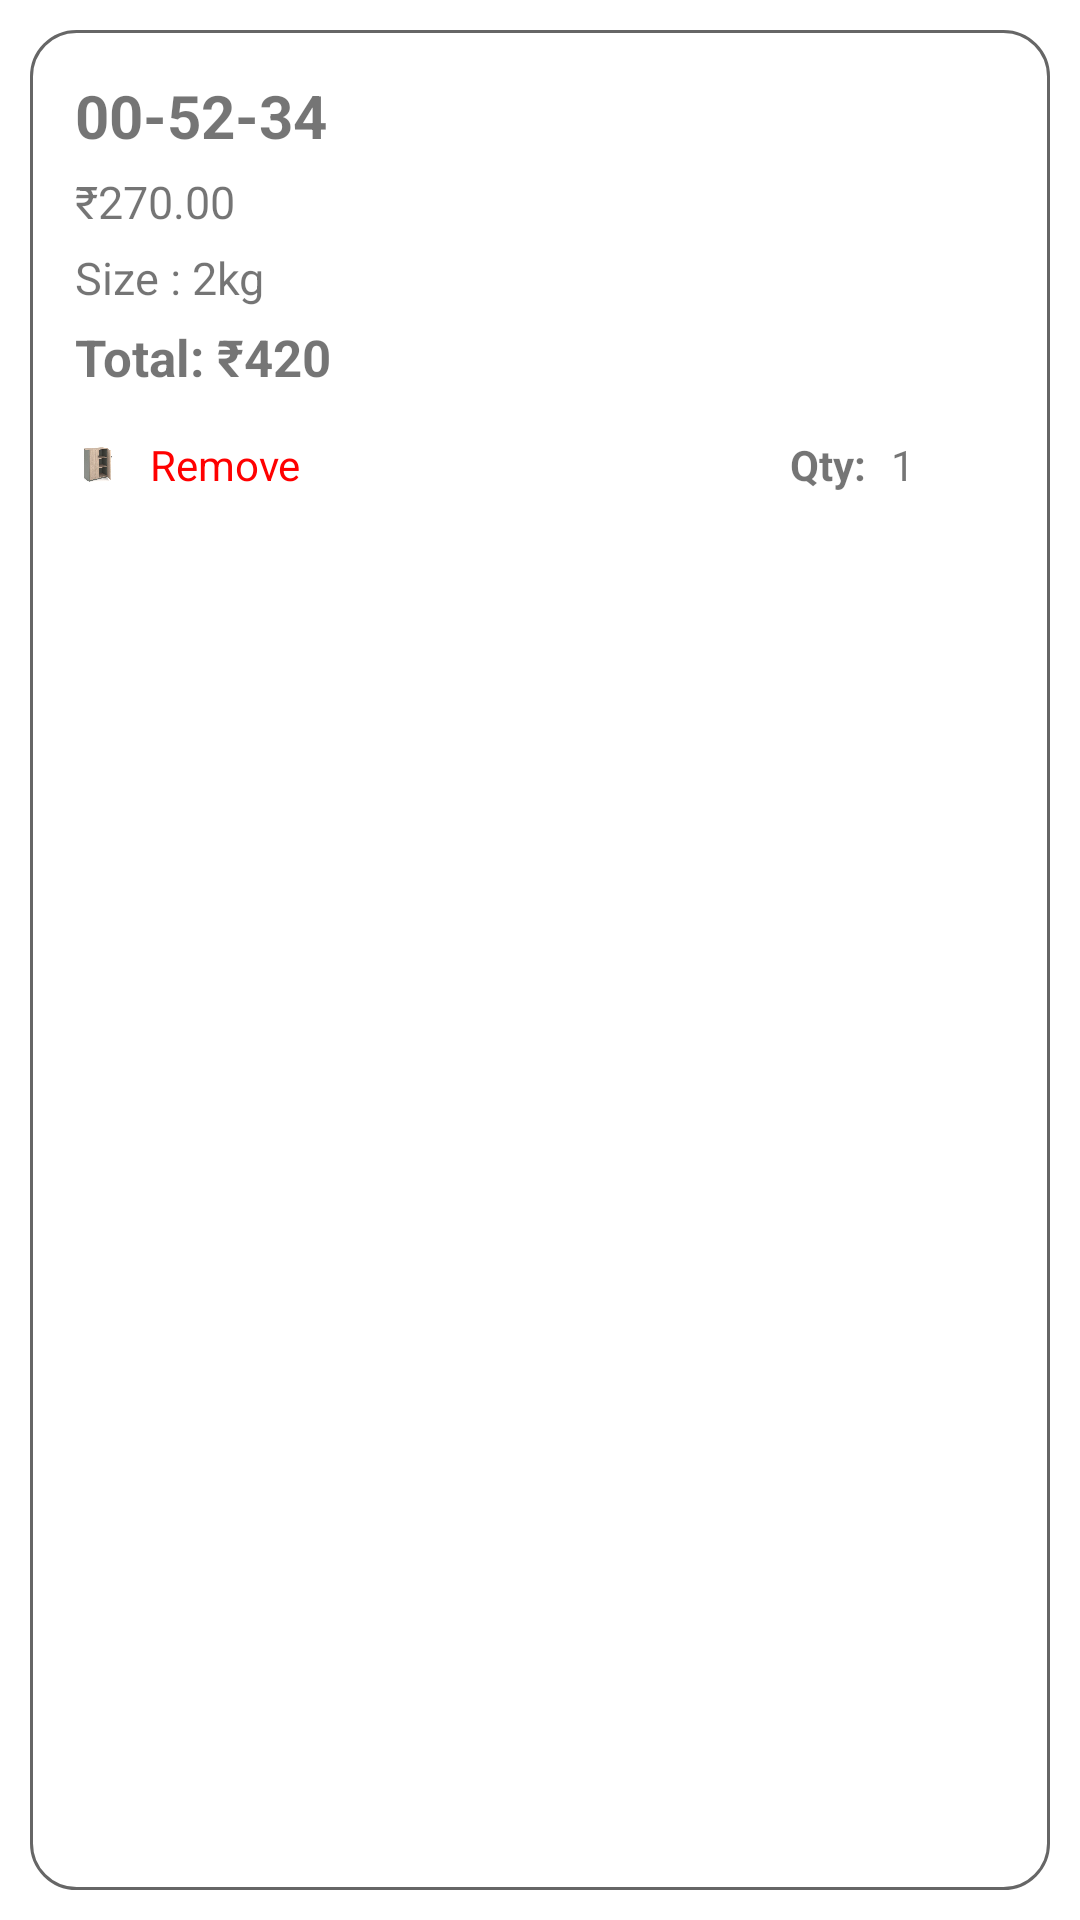

Named icons in this screenshot (1080px x 1920px) and their bounding boxes, (x1, y1, x2, y2):
cupboard: (84, 447, 112, 482)
